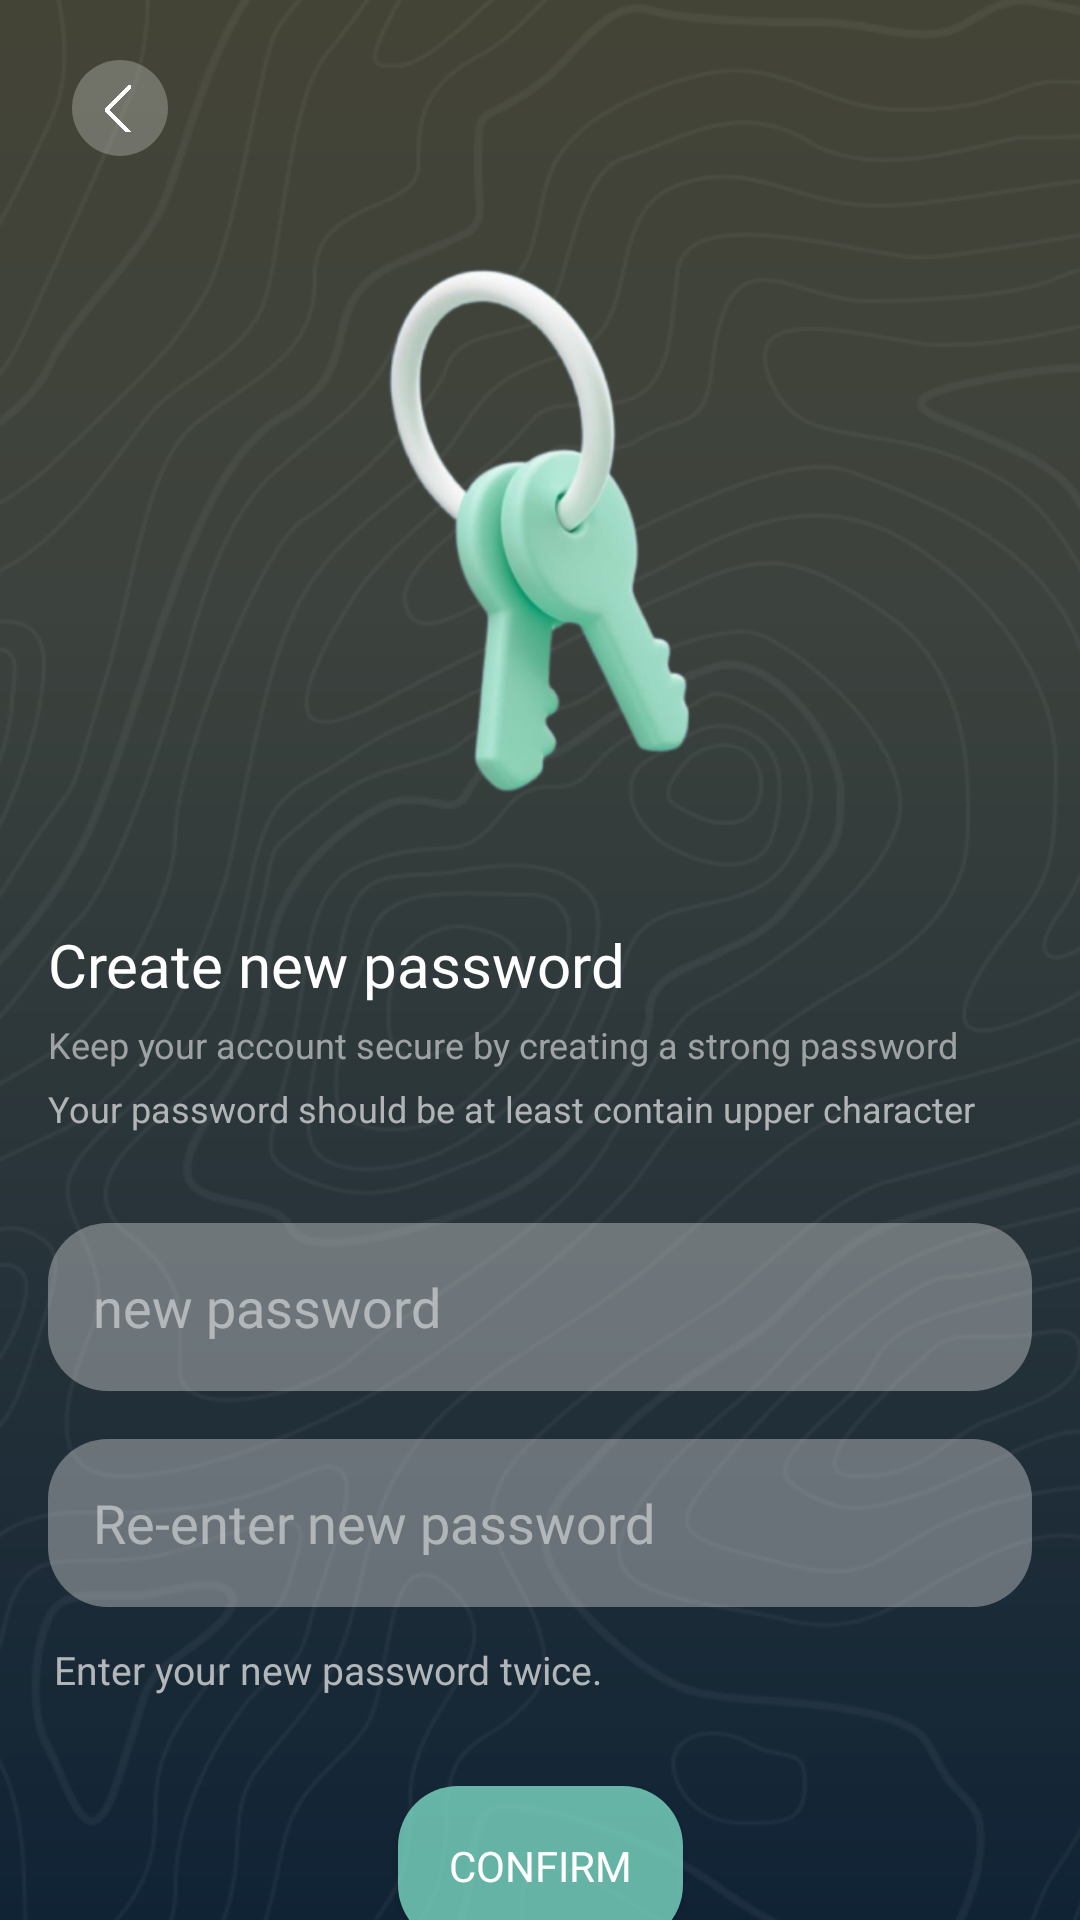

Point at icon controls on the screen. Image size 1080w x 1920h, points as point (x, y).
arrow back: point (118, 108)
